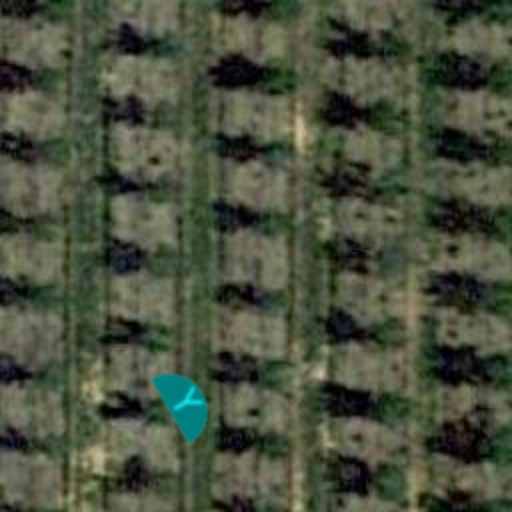semicircle: (132, 348, 240, 456)
